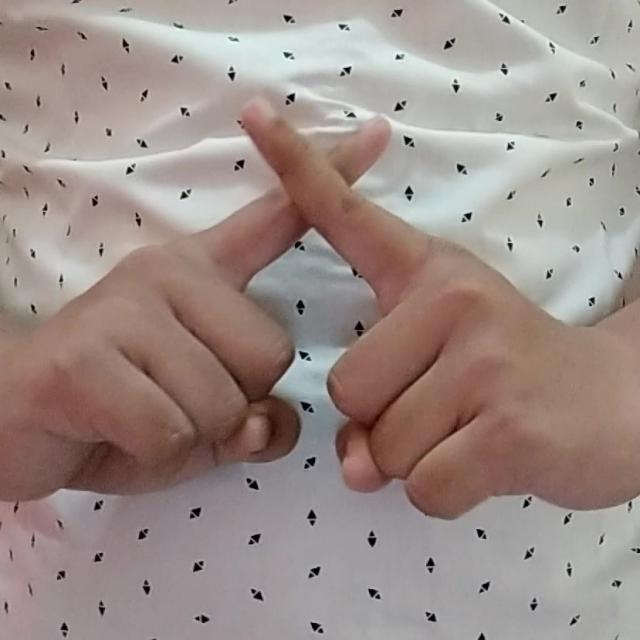X: (74, 76, 590, 546)
